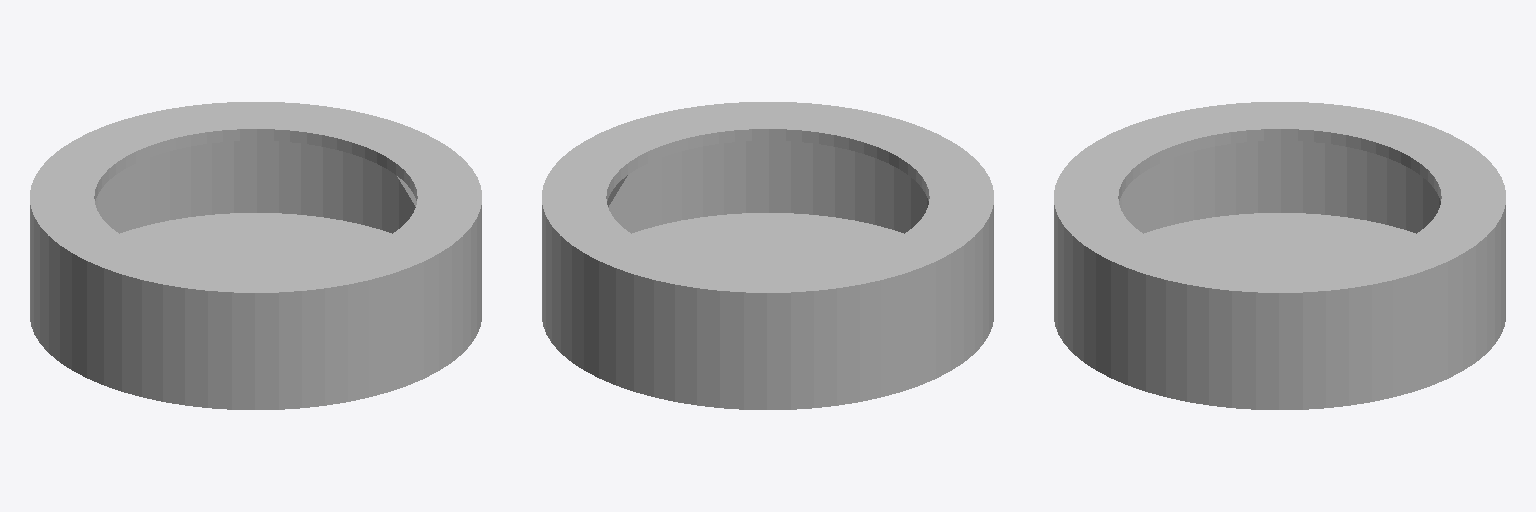
The model's file is highbase.obj.
The picture shows the model from 3 angles: view 1: azimuth 30°, elevation 25°; view 2: azimuth 150°, elevation 25°; view 3: azimuth 270°, elevation 25°; orthographic projection.
Visible parts, largest first — view 1: Plane; view 2: Plane; view 3: Plane.
Boxes of the visible parts, box(x1,y1,x2,y2) form: Plane: box(30, 102, 481, 409); Plane: box(542, 102, 993, 409); Plane: box(1054, 102, 1505, 409).
Bounding box in the file's own units: 6.99 × 2 × 6.99.